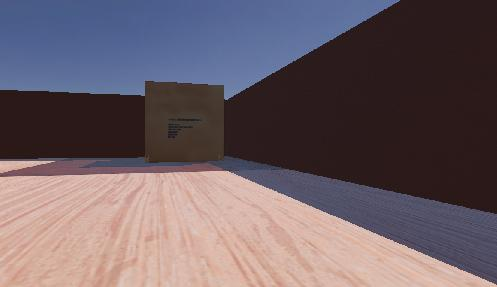CardboardBox: (136, 70, 237, 169)
